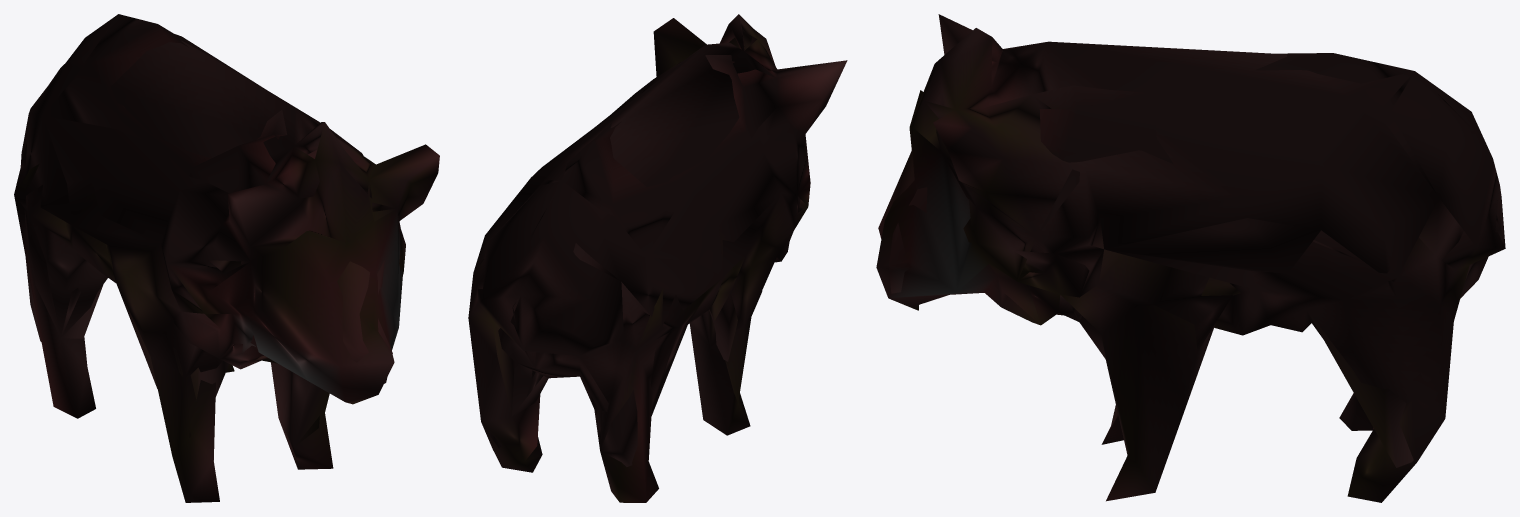
File: gen3d-wild-boar-lod1.glb
The picture shows the model from 3 angles, left to right: view 1: azimuth 30°, elevation 25°; view 2: azimuth 150°, elevation 25°; view 3: azimuth 270°, elevation 25°; orthographic projection. The views are drawn at different scales.
Parts seen in each view (by area): view 1: part_0; view 2: part_0; view 3: part_0.
Boxes of the visible parts, x1,y1,x2,y2 form: part_0: [14, 14, 439, 502]; part_0: [468, 14, 847, 502]; part_0: [876, 14, 1505, 502].
Size of the model in its own units: 0.5965 by 1 by 1.29.
